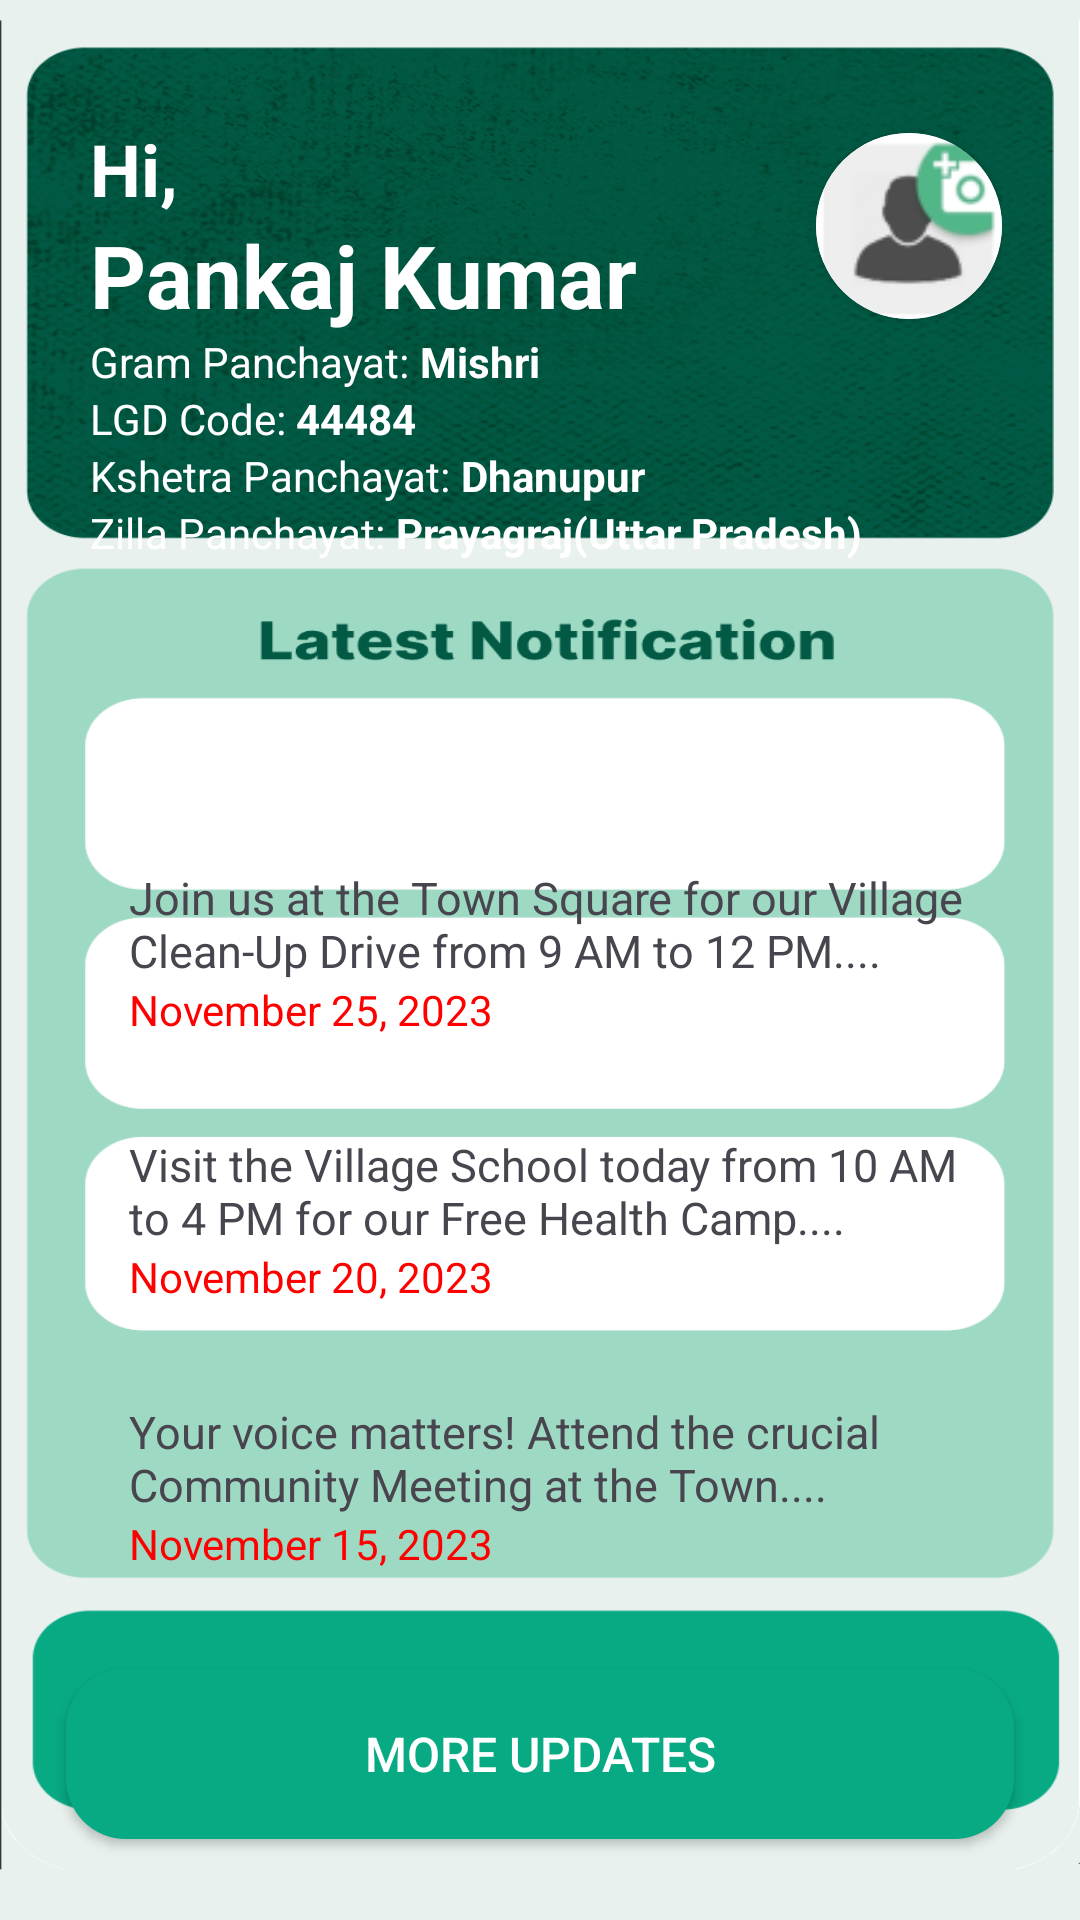

Named icons in this screenshot (1080×1920) and their bounding boxes, bbox=[x1, y1, x2, y2]:
userimg: bbox=[816, 133, 1002, 319]
